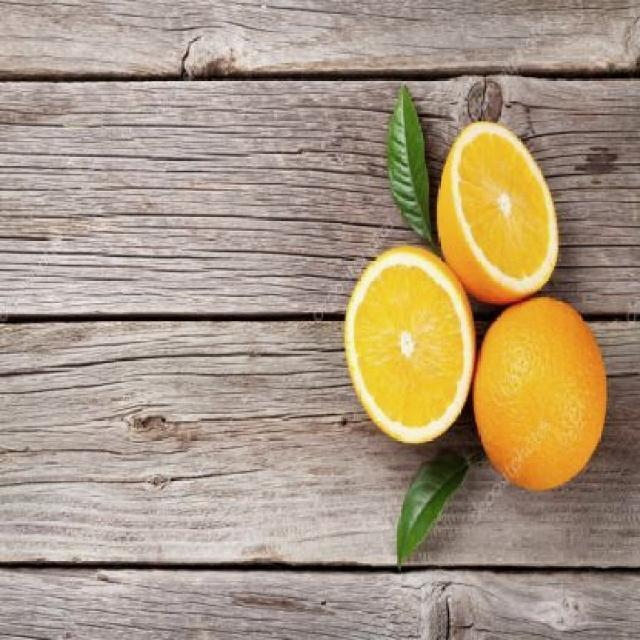Jeruk Sudah Matang: (476, 293, 609, 489)
